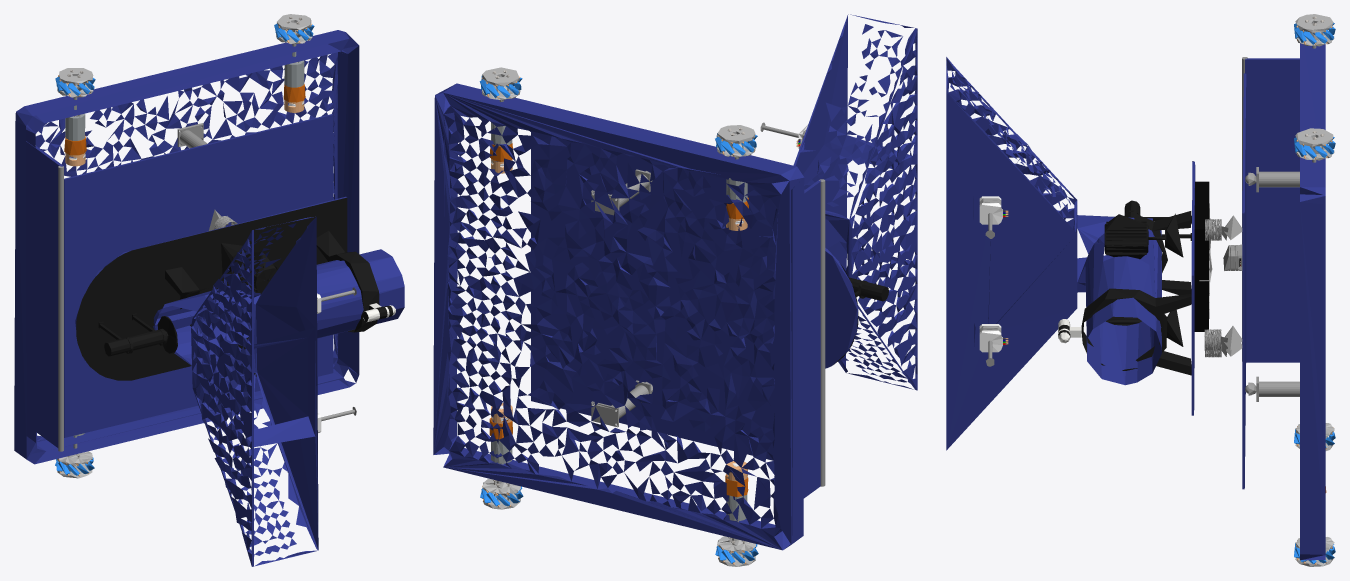
3 renders of one model, left to right at view 1: azimuth 30°, elevation 25°; view 2: azimuth 150°, elevation 25°; view 3: azimuth 270°, elevation 25°, orthographic. The views are drawn at different scales.
Parts seen in each view (by area): view 1: body_m0, body_m9, body_m1, body_m4, body_m5, body_m7, body_m6, body_m3; view 2: body_m0, body_m1, body_m4, body_m5, body_m7, body_m6, body_m3, body_m9; view 3: body_m0, body_m9, body_m1, body_m17, body_m4, body_m5, body_m10.
Boxes of the visible parts, x1,y1,x2,y2 form: body_m0: (14,30,404,566); body_m9: (76,197,393,380); body_m1: (58,44,356,451); body_m4: (57,14,312,478); body_m5: (55,23,314,475); body_m7: (65,52,304,437); body_m6: (64,84,305,155); body_m3: (58,23,311,476); body_m0: (433,14,917,550); body_m1: (499,100,825,486); body_m4: (482,67,755,566); body_m5: (479,76,758,563); body_m7: (491,122,747,522); body_m6: (489,143,748,497); body_m3: (482,76,798,564); body_m9: (833,264,888,364); body_m0: (946,43,1325,560); body_m9: (1058,161,1241,375); body_m1: (979,45,1316,401); body_m17: (1194,181,1209,331); body_m4: (1295,14,1334,566); body_m5: (1294,23,1335,563); body_m10: (979,196,1002,352).
Bounding box in the file's own units: 0.7995 × 0.917 × 0.7574.
